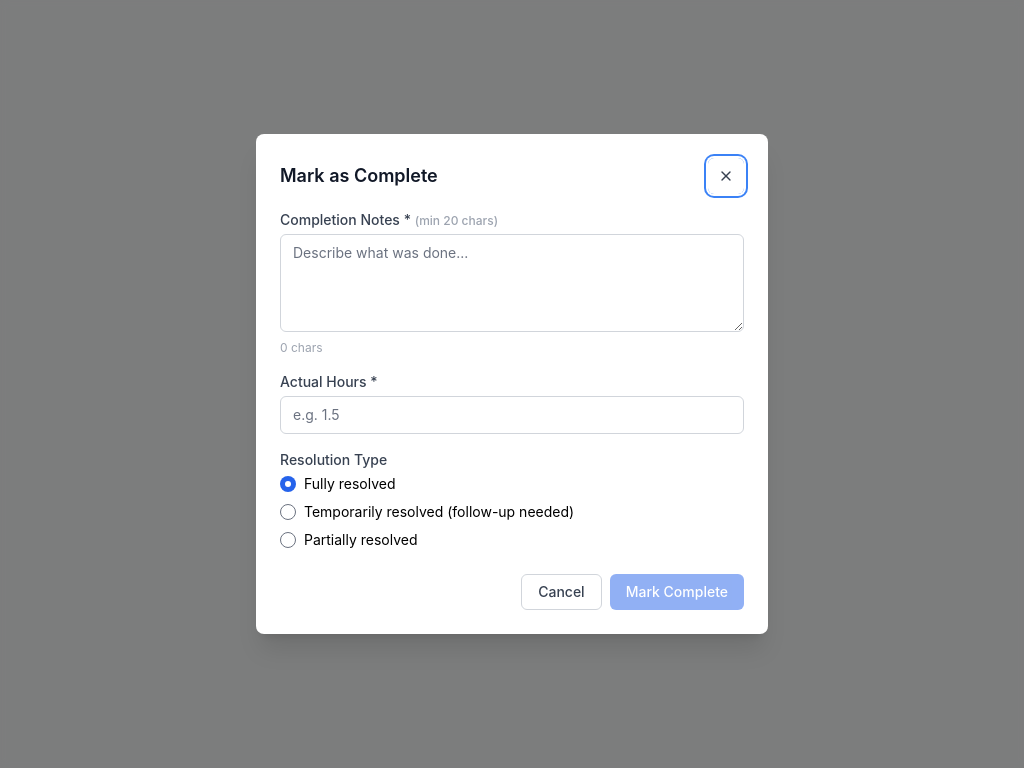
Test: CompleteModal › enables submit when all conditions met
This screenshot has width=1024, height=768.
Type "Completed all required maintenance steps successfully." into the text box with placeholder "Describe what was done...".
click(512, 283); type("Completed all required maintenance steps successfully.")  # box [280,234,744,332]
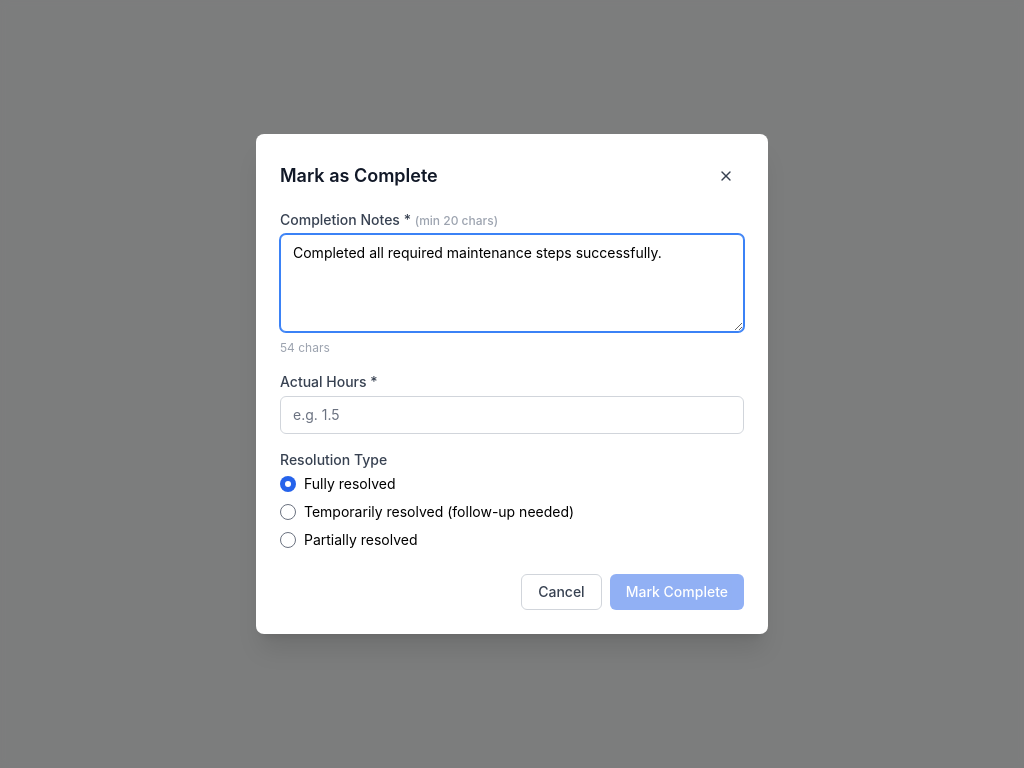
Type "2.5" into the number field with placeholder "e.g. 1.5".
click(512, 415); type("2.5")  # box [280,396,744,434]
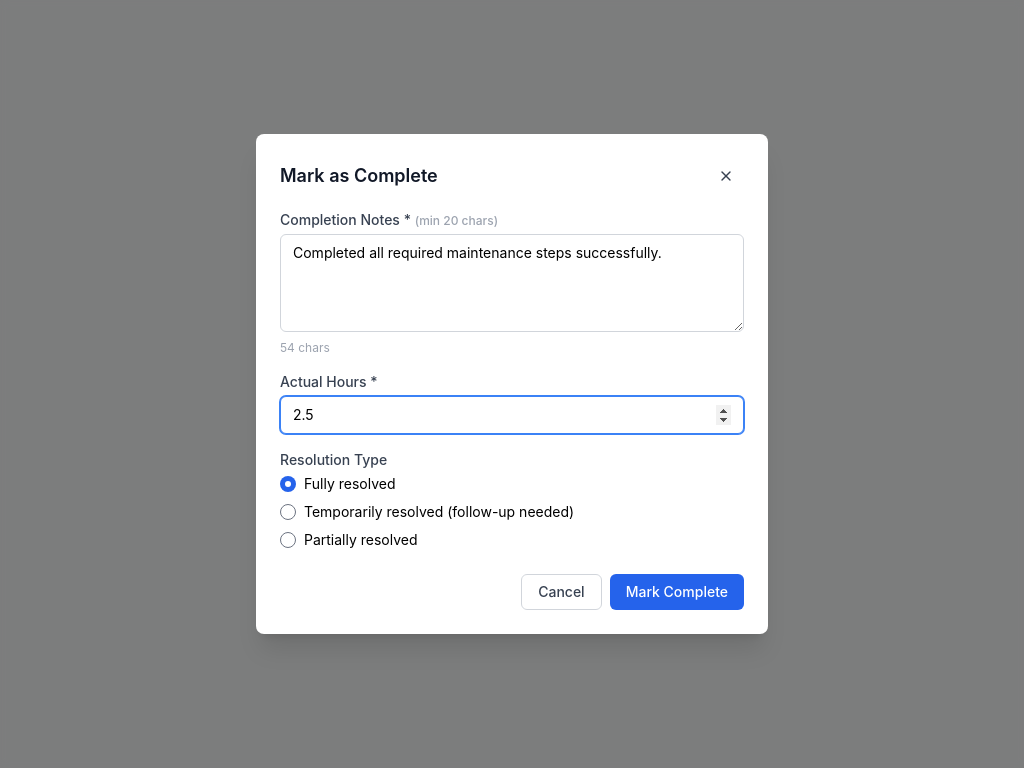
Expected: the button "Mark Complete" is enabled, [610,574,744,610]
